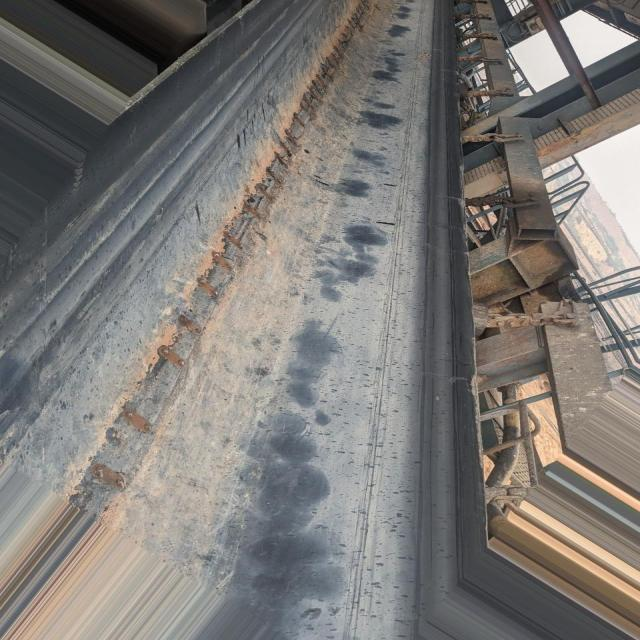patch work: (71, 0, 377, 503)
